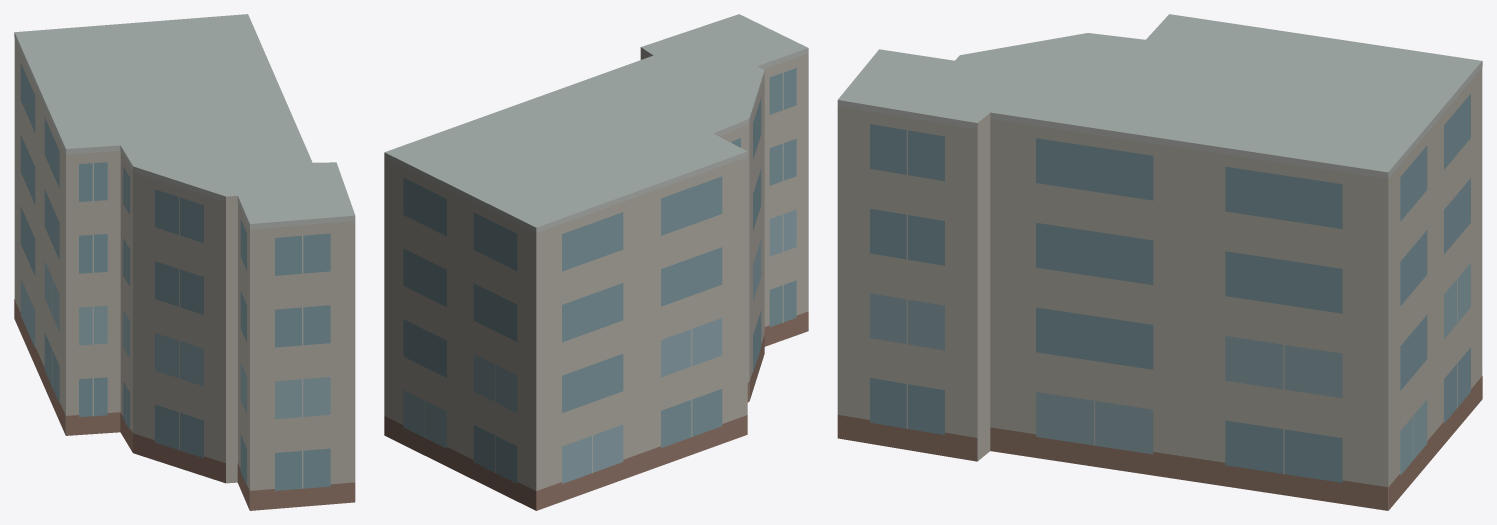
The model's file is survey-upis-32629569.glb.
3 renders of one model, left to right at view 1: azimuth 30°, elevation 25°; view 2: azimuth 150°, elevation 25°; view 3: azimuth 270°, elevation 25°, orthographic. The views are drawn at different scales.
Parts seen in each view (by area): view 1: survey-upis-32629569.tmp; view 2: survey-upis-32629569.tmp; view 3: survey-upis-32629569.tmp.
Boxes of the visible parts, x1,y1,x2,y2 form: survey-upis-32629569.tmp: (14,14,355,510); survey-upis-32629569.tmp: (384,14,808,510); survey-upis-32629569.tmp: (837,14,1482,510).
Bounding box in the file's own units: 12.86 × 12.8 × 22.11.
